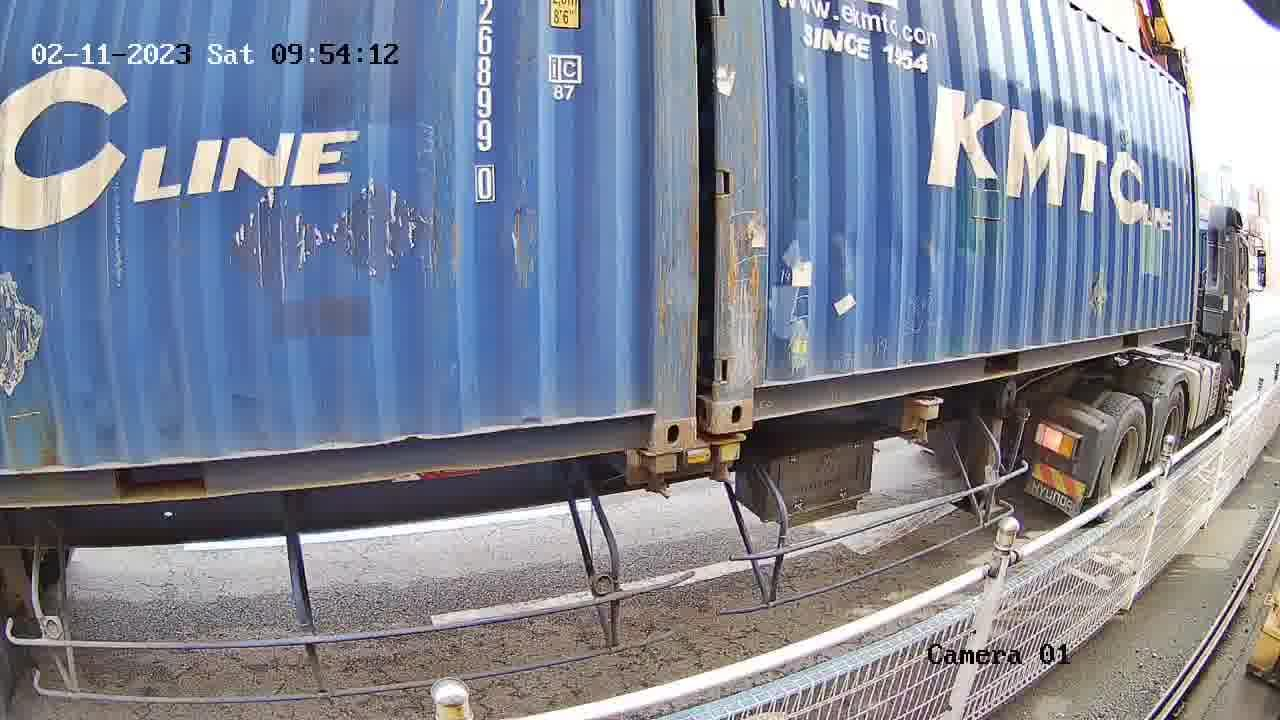Cone: (709, 437, 746, 488), (640, 453, 680, 499)
Hole_L: (713, 354, 783, 434)
Hole_R: (606, 370, 696, 458)
Tire: (1101, 398, 1149, 514), (1153, 384, 1188, 473)
